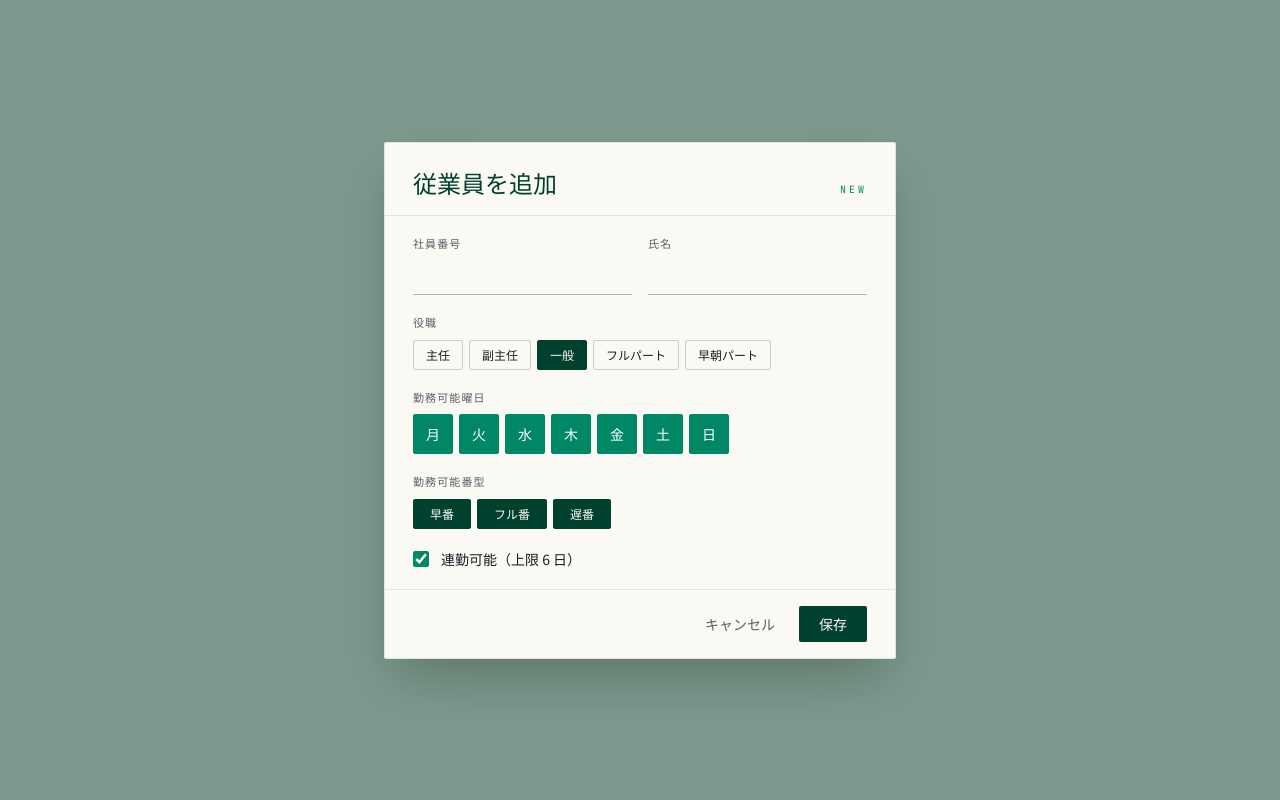
Test: EmployeeFormModal — validation › rejects when no shift types are selected
The width and height of the screenshot is (1280, 800).
Click the button "早番": (442, 514) [413,498,471,528]
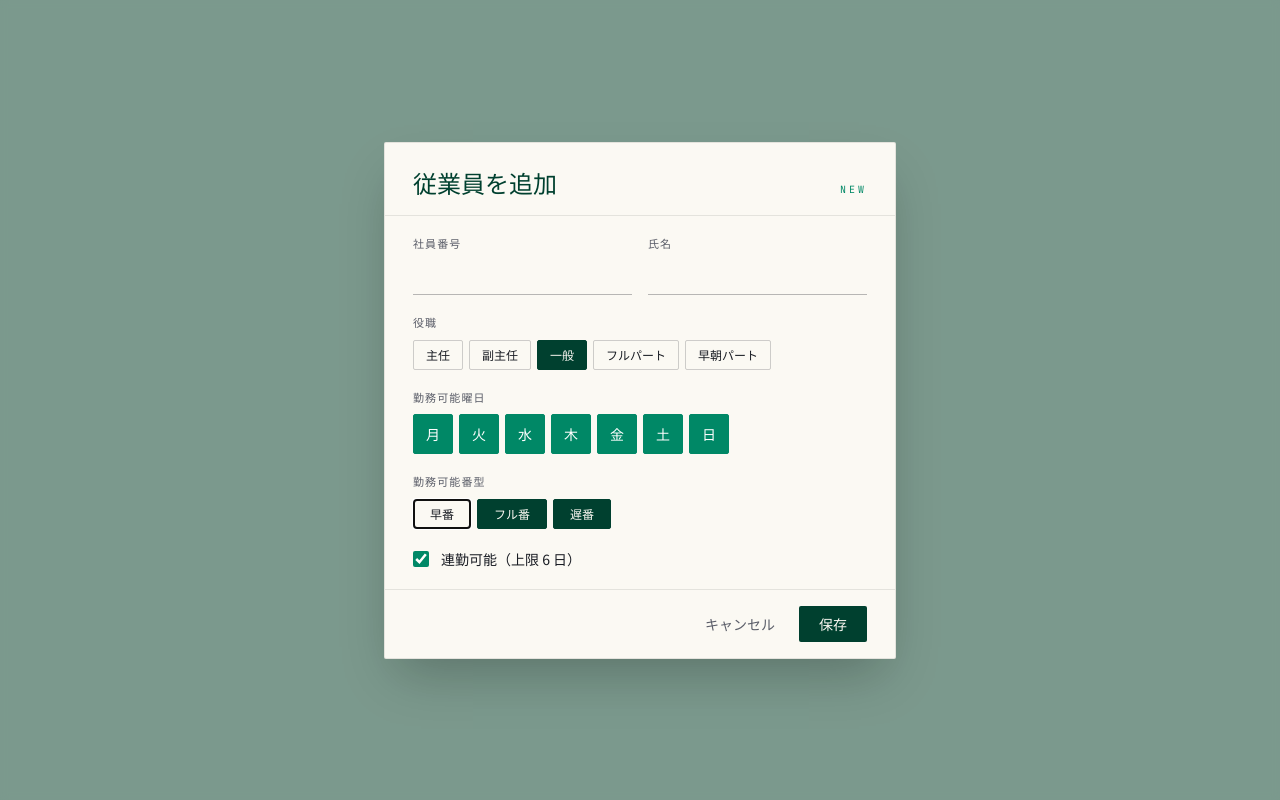
Click the button "フル番": (512, 514) [477,498,547,528]
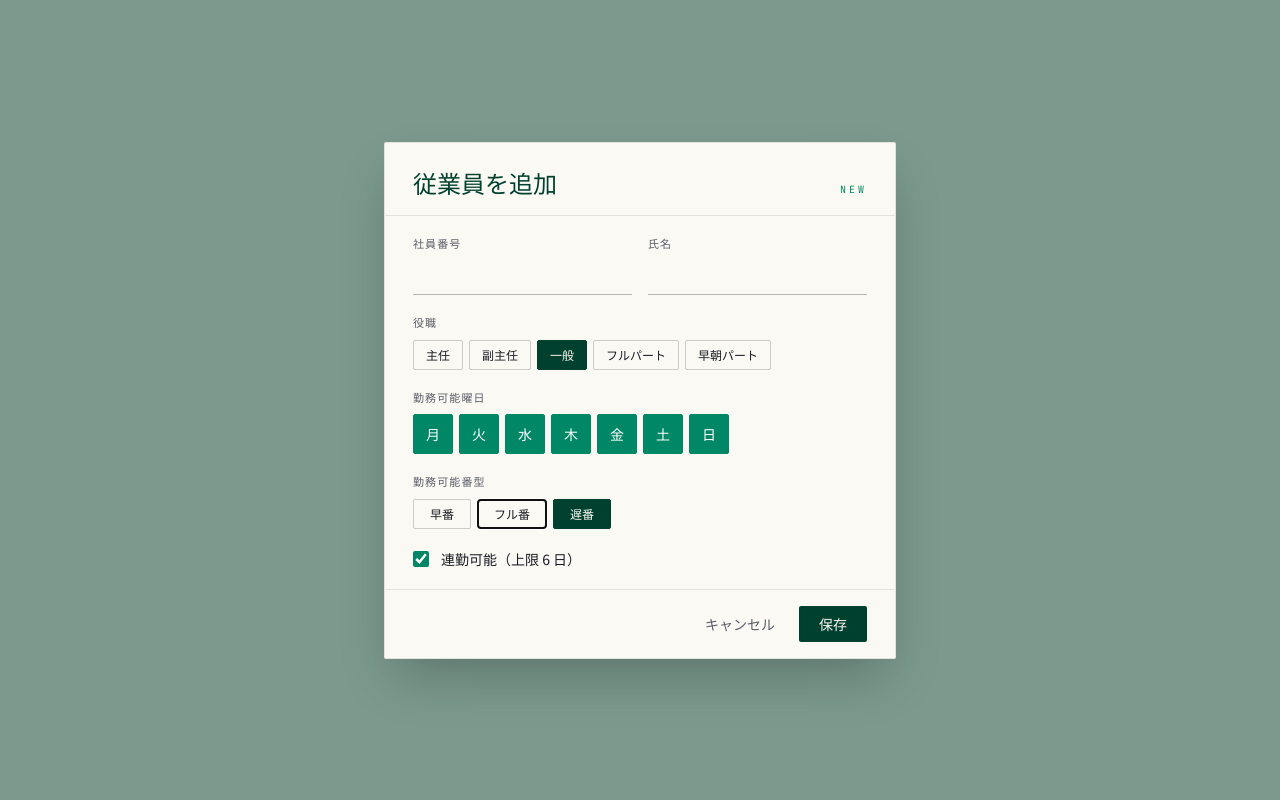
Click the button "遅番": (582, 514) [553,498,611,528]
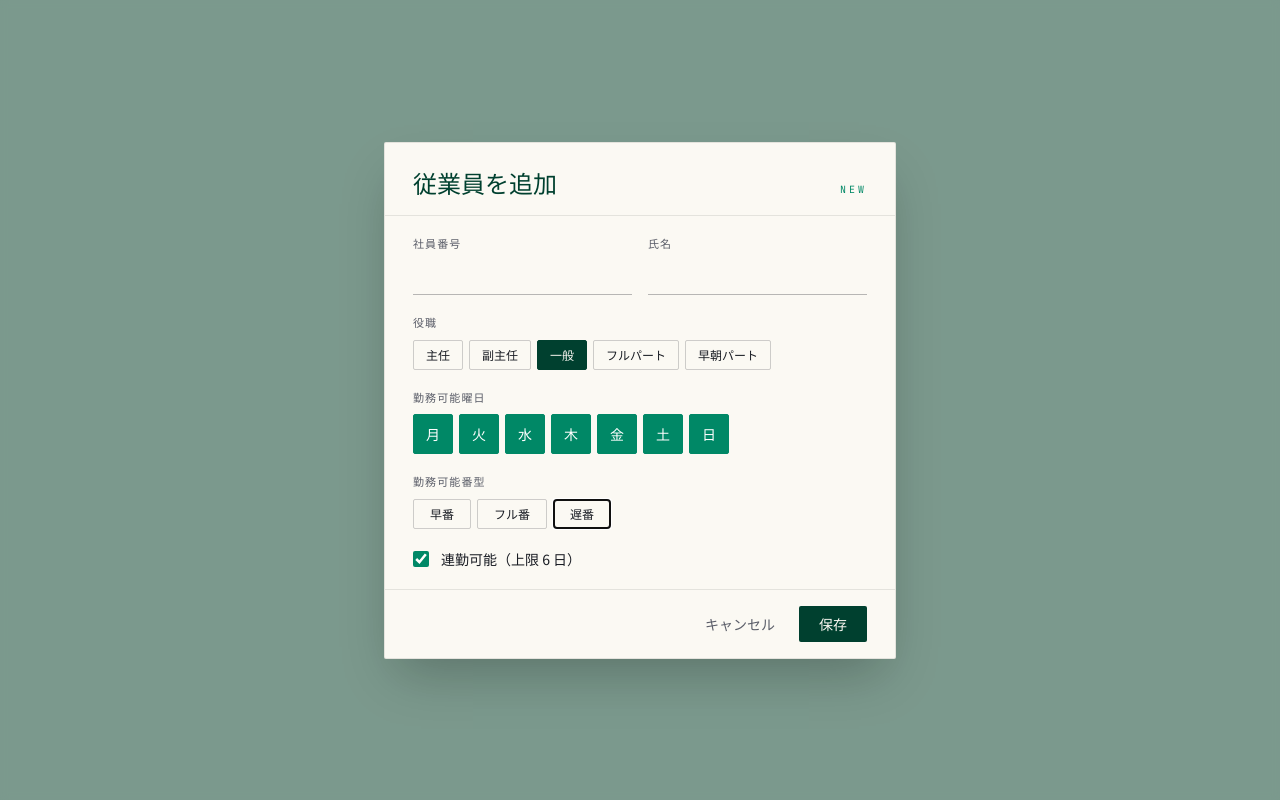
In the number field labelled "社員番号": (522, 276) [413,258,632,295], type "1"
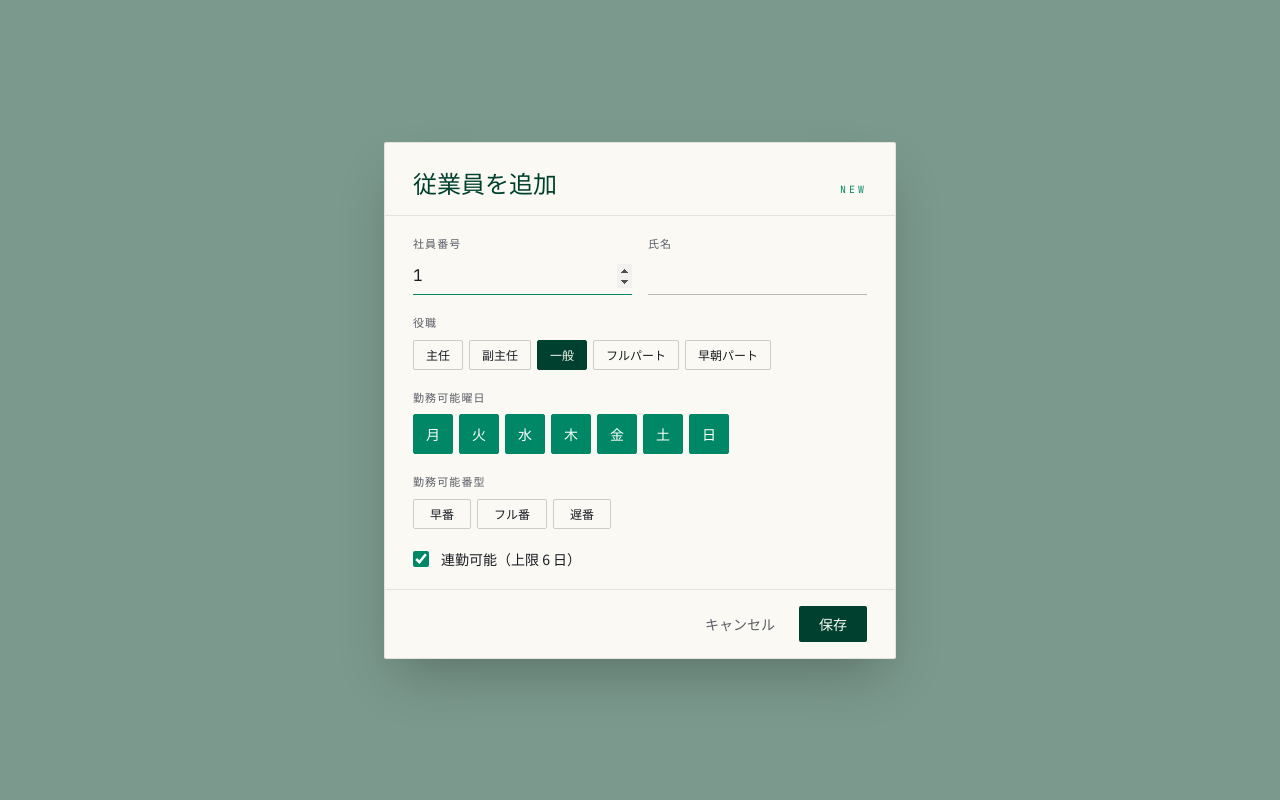
In the field labelled "氏名": (758, 276) [648,258,867,295], type "Alice"
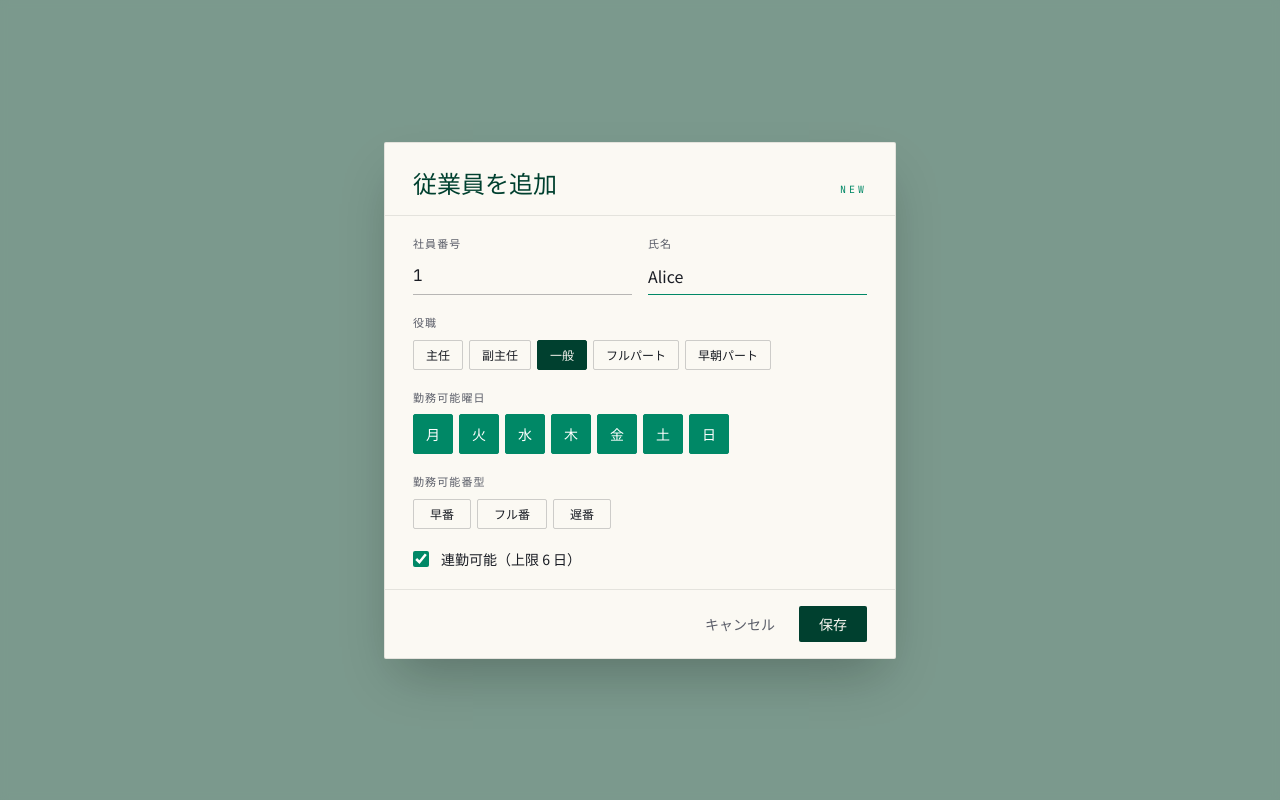
Click the button "保存": (833, 624) [799,606,867,642]
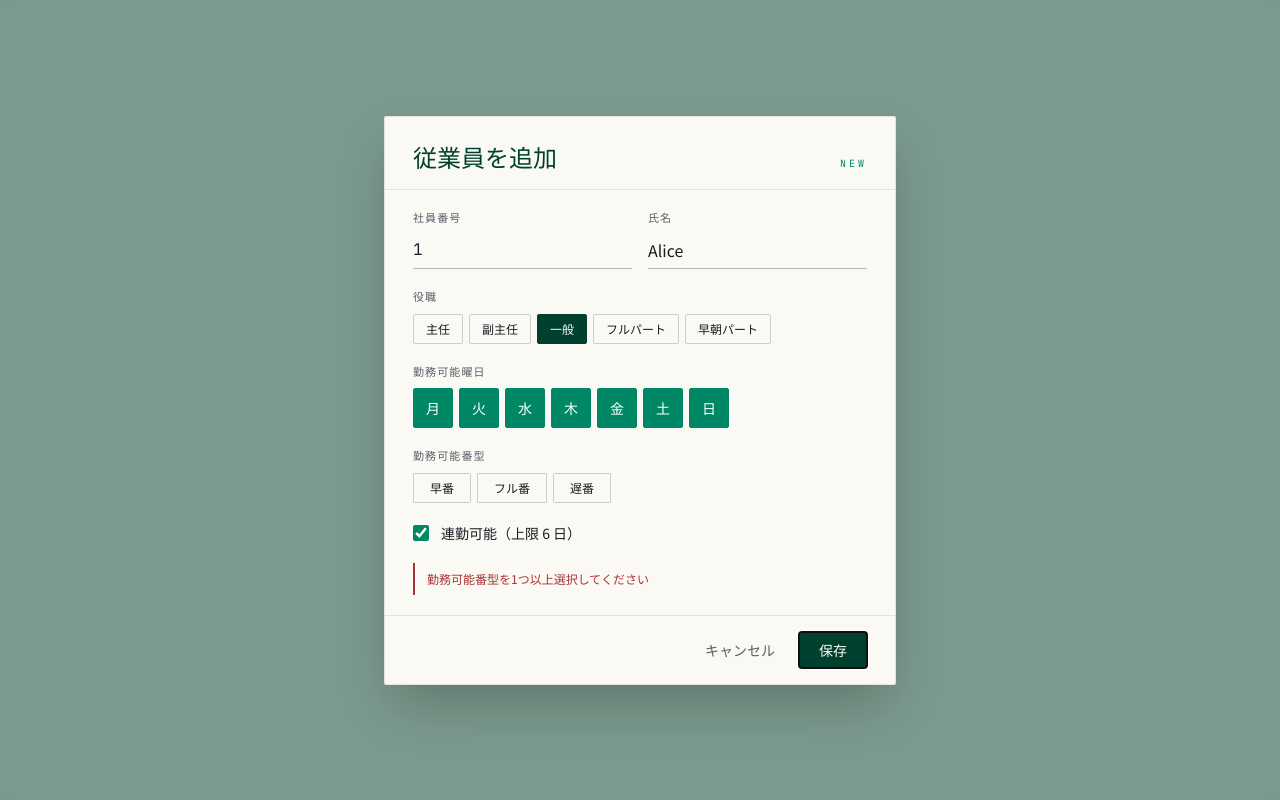
expect the text "勤務可能番型を1つ以上選択してください" is shown: met, box [413,562,867,594]
